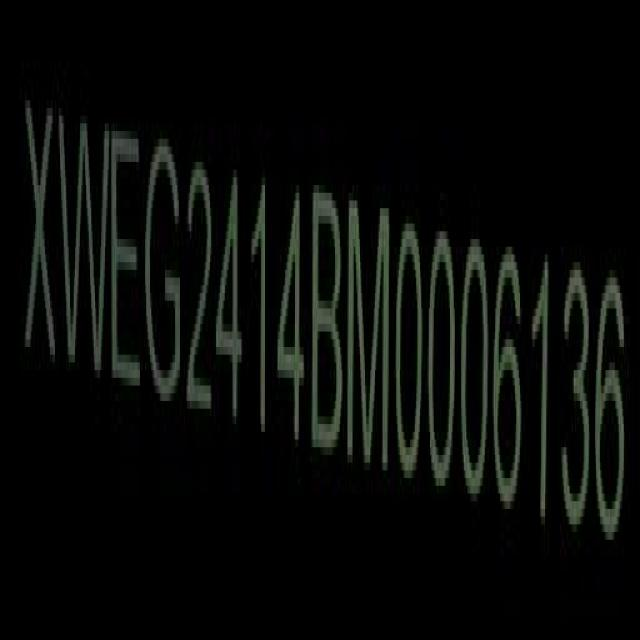0: (429, 217, 459, 499), (396, 204, 425, 490), (462, 226, 491, 506)
1: (250, 157, 271, 448), (533, 241, 552, 528)
2: (188, 144, 216, 432)
3: (561, 255, 591, 542)
4: (279, 170, 310, 459), (216, 154, 246, 440)
6: (492, 234, 526, 514), (594, 264, 626, 550)
B: (312, 178, 344, 469)
E: (110, 111, 144, 405)
G: (144, 119, 183, 418)
M: (349, 184, 393, 483)
W: (58, 88, 110, 398)
X: (24, 80, 58, 392)
